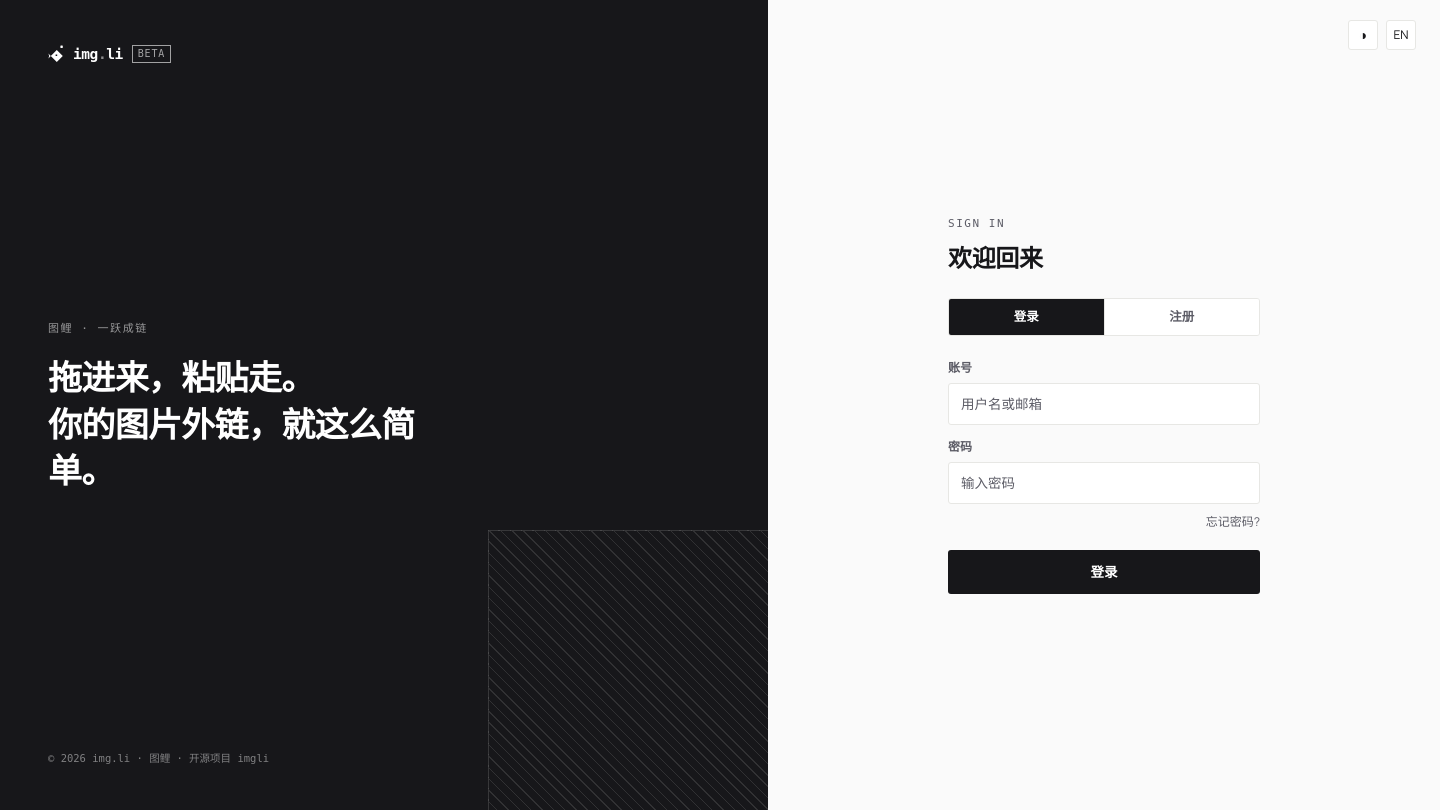
Scenario: 注册模式校验用户名与密码强度
Click the button "注册" at [1181, 317], box [1104, 299, 1259, 335]
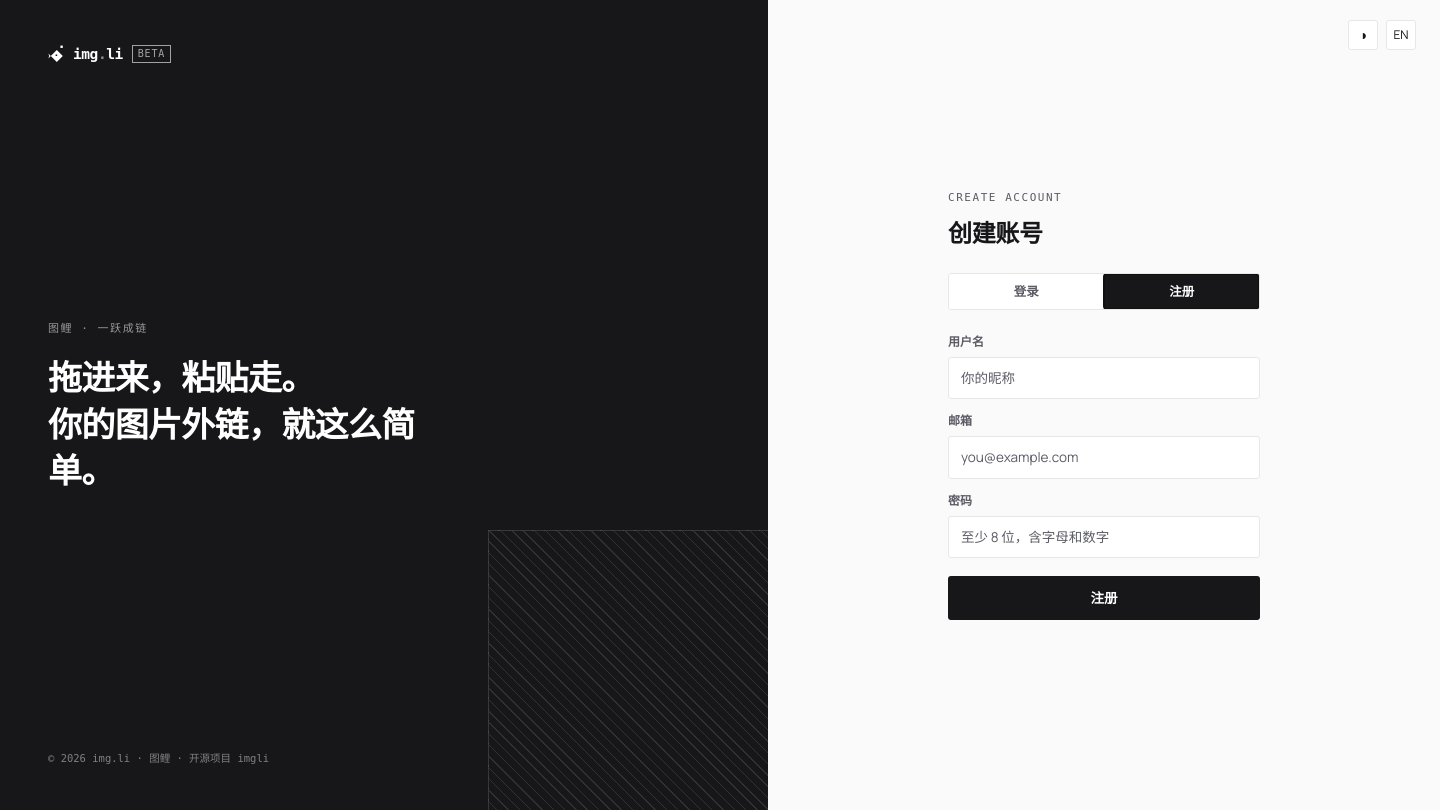
Type "a@b.co" into the field labelled "邮箱" at [1104, 457], box [948, 436, 1260, 479]
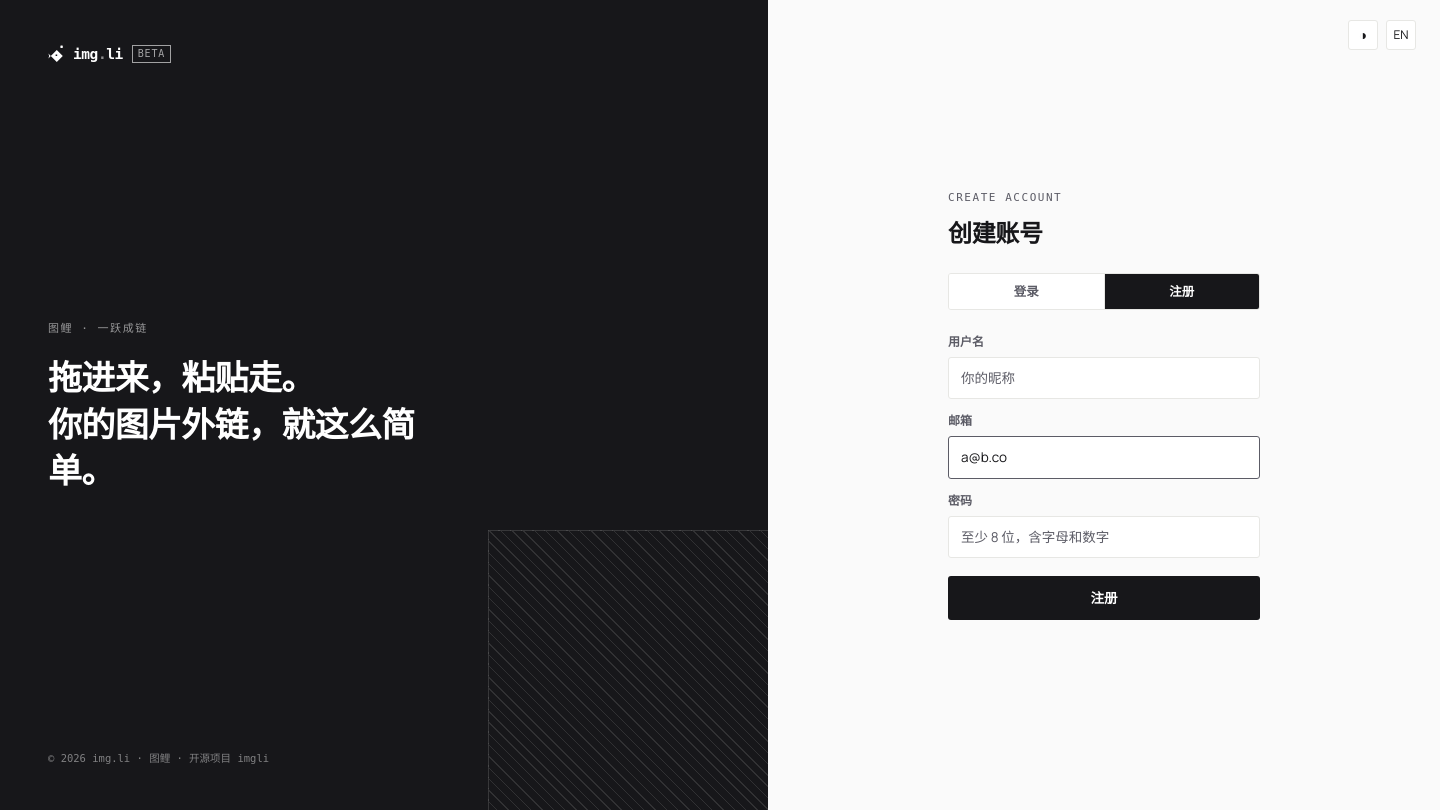
Type "short" into the password field labelled "密码" at [1104, 537], box [948, 516, 1260, 558]
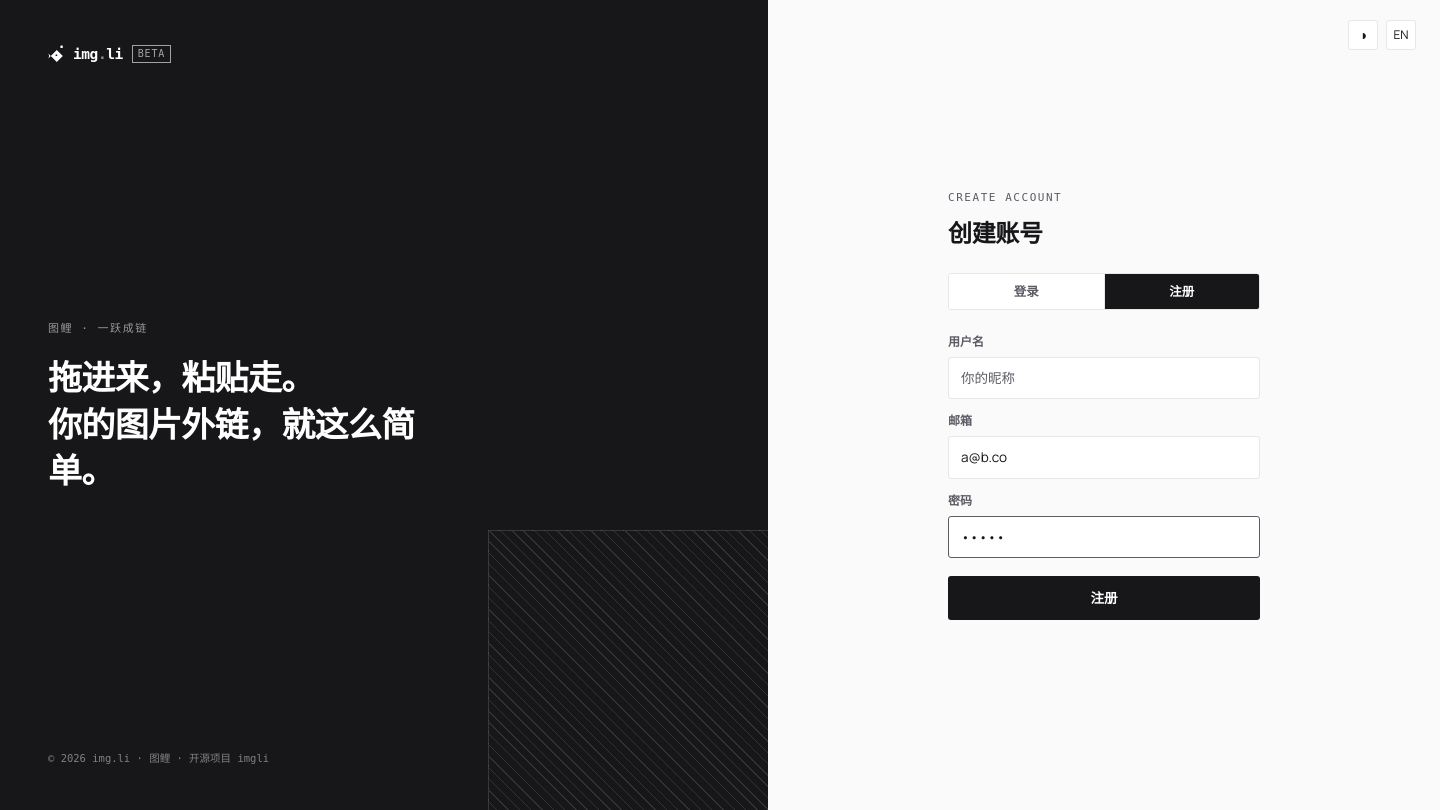
Click the button with test id "auth-submit" at [1104, 598], box [948, 576, 1260, 620]
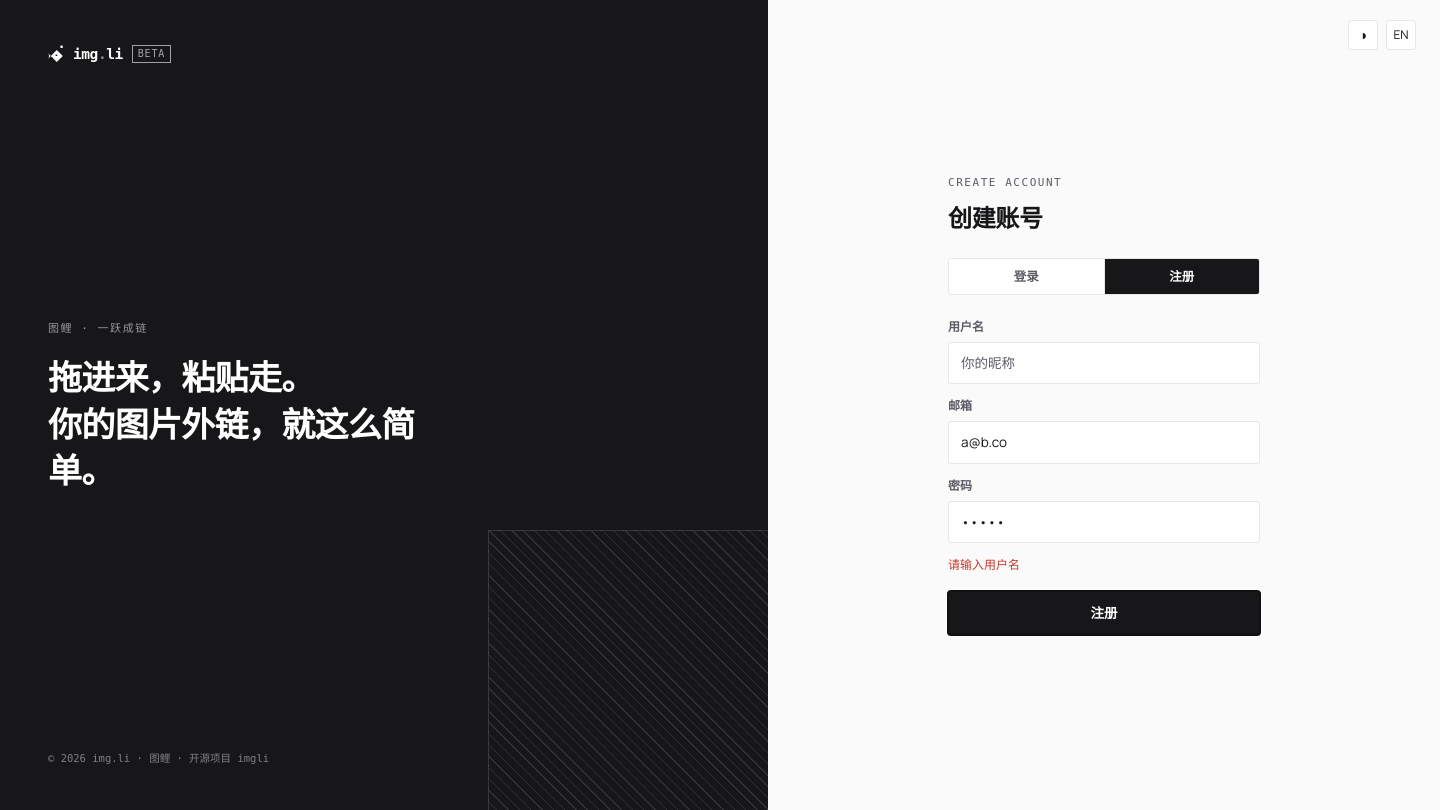
Expected: the text "请输入用户名" is shown, [948, 556, 1020, 573]
Type "ling" into the field labelled "用户名" at [1104, 363], box [948, 342, 1260, 384]
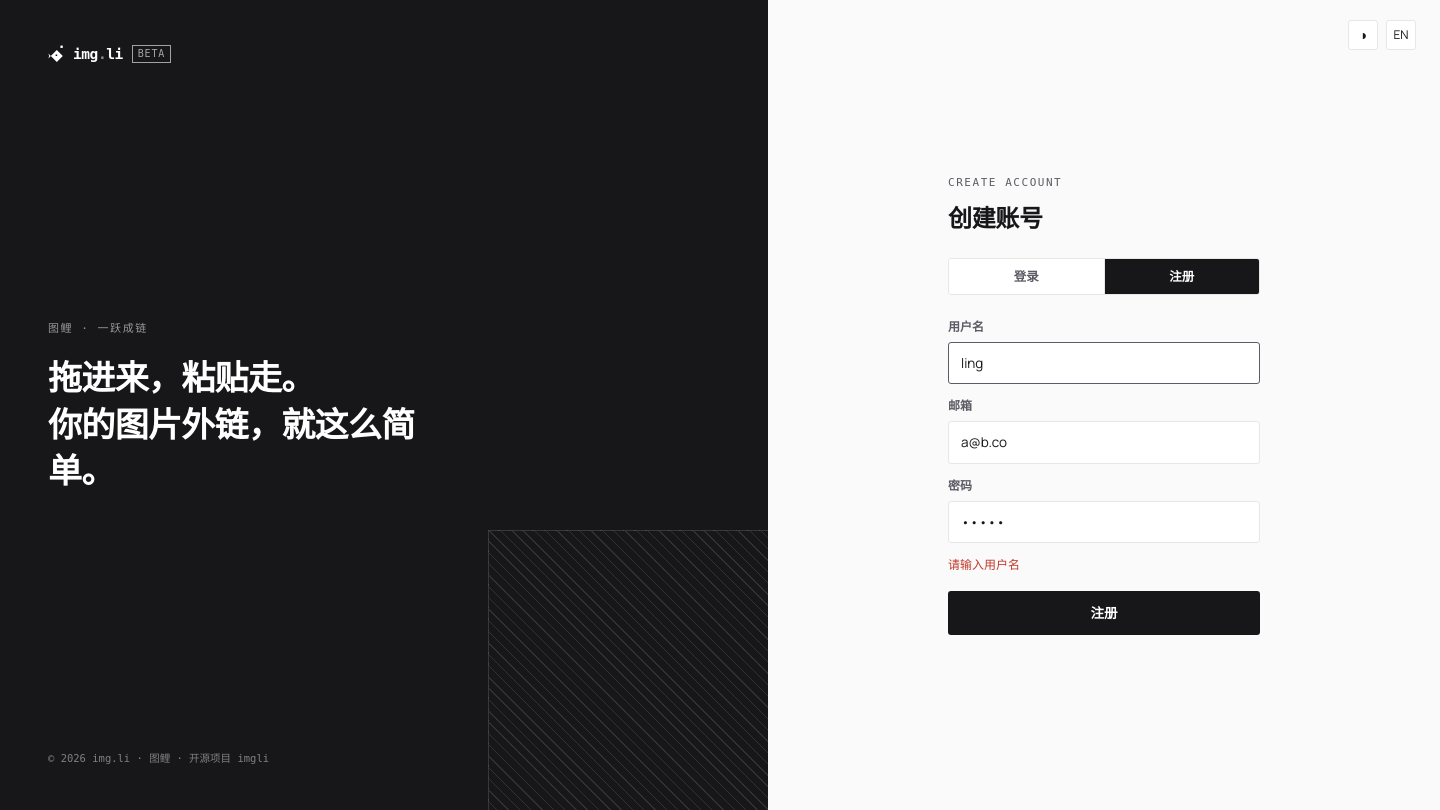
Click the button with test id "auth-submit" at [1104, 613], box [948, 591, 1260, 635]
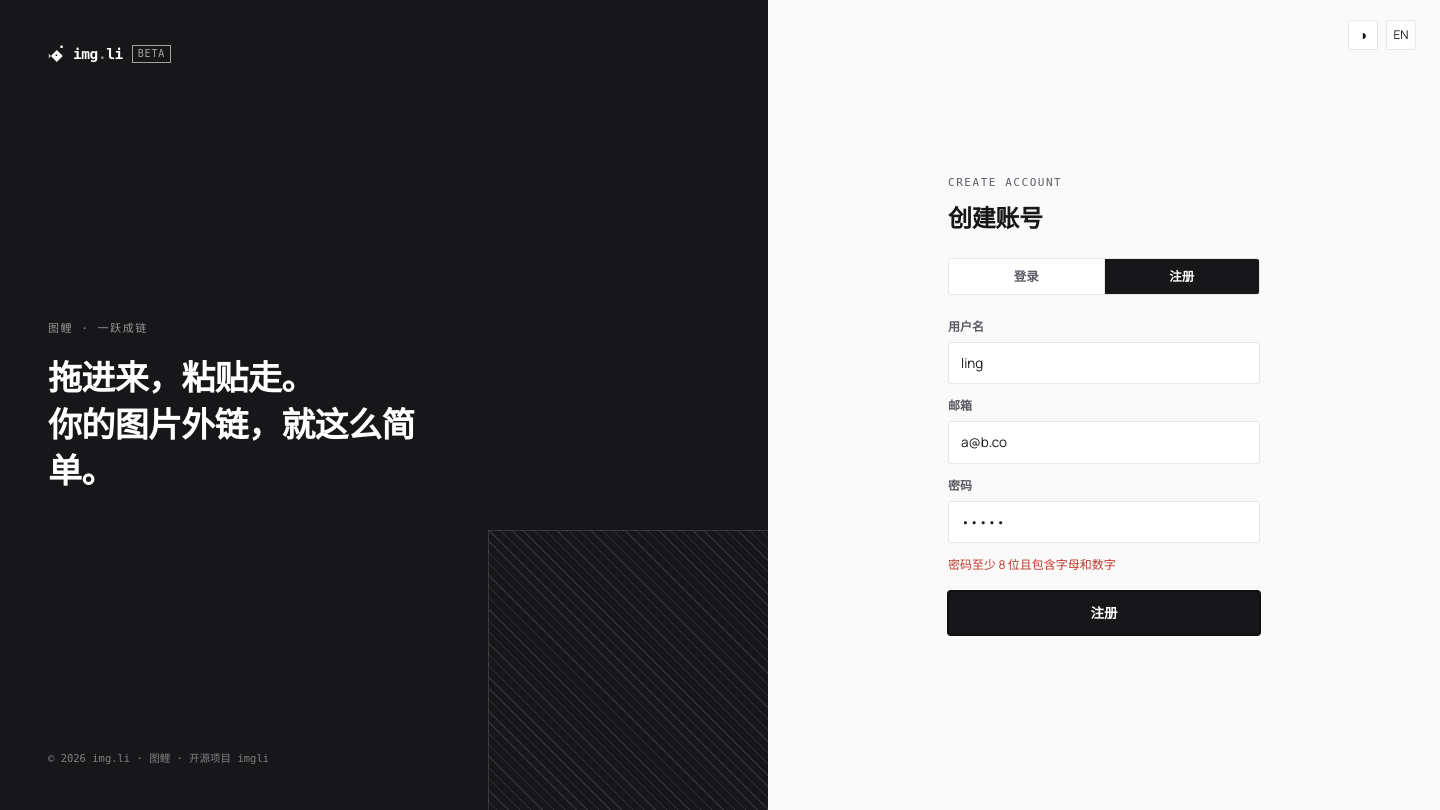
Expected: the text "密码至少 8 位且包含字母和数字" is shown, [948, 556, 1116, 573]
